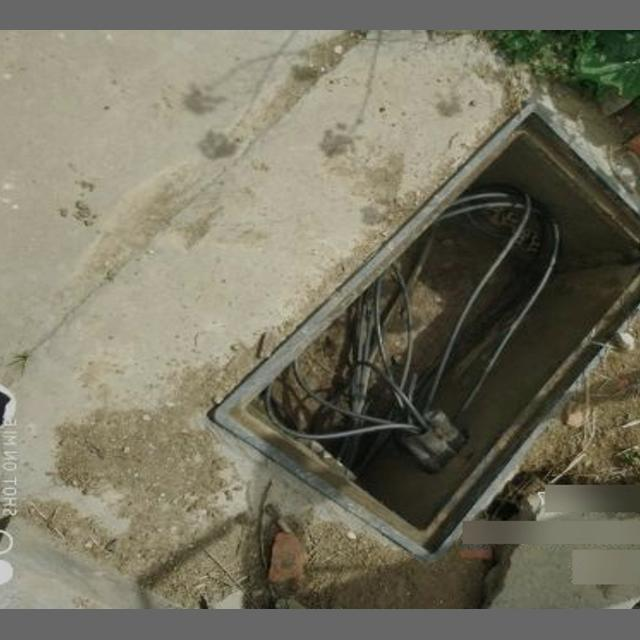lose: (211, 100, 640, 571)
